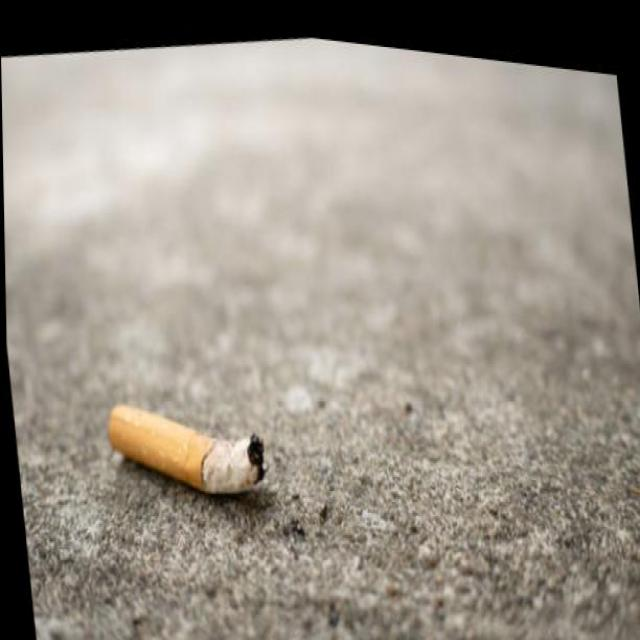cigarette: (102, 364, 271, 516)
